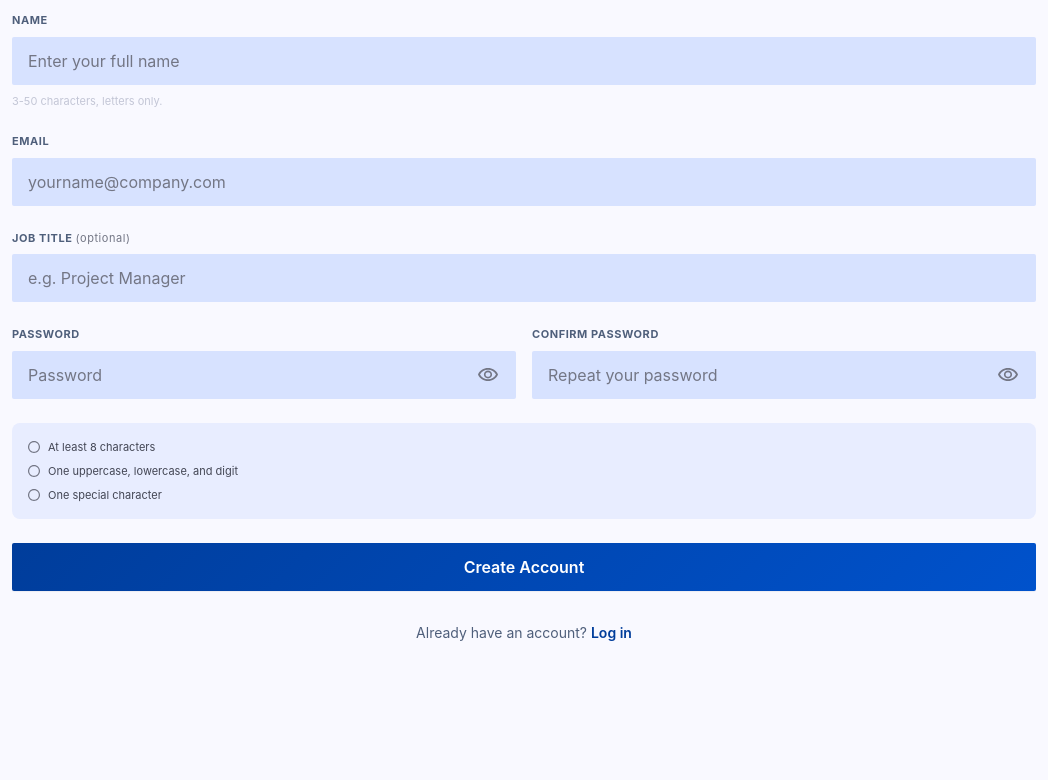
Scenario: SignUpForm › renders validation error and rejects before fetch for invalid name
Note: Too short (2 characters)
Type "Al" into the field labelled "Name" at (524, 60), box [12,36,1036,84]
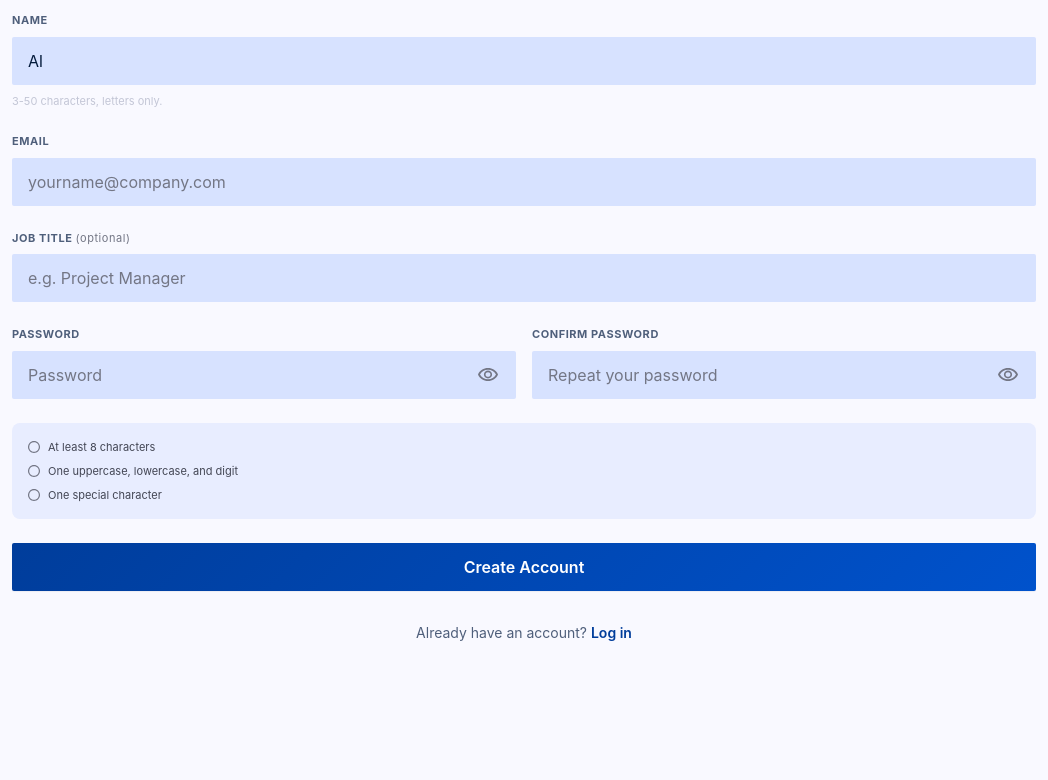
Click the button "Create Account" at (524, 567), box [12,543,1036,591]
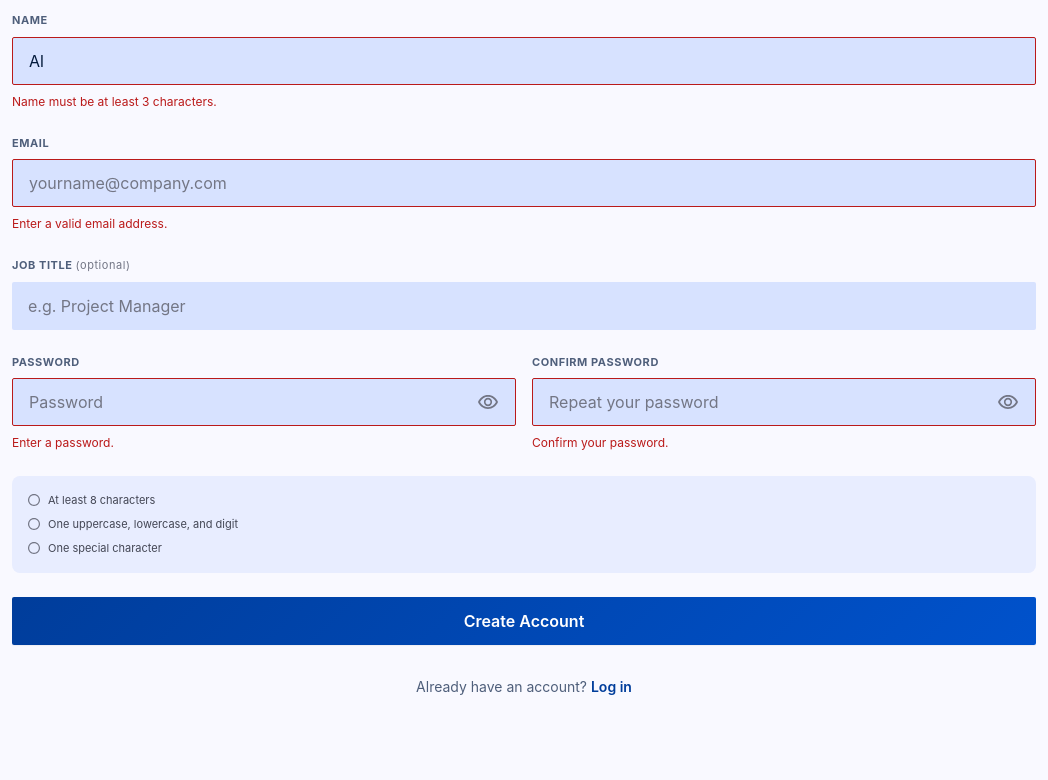
Expected: the text "Name must be at least 3 characters." is shown, [12,94,217,108]
Note: Invalid characters (digits)
Replace the text in the field labelled "Name" with "User 123" at (524, 60), box [12,36,1036,84]
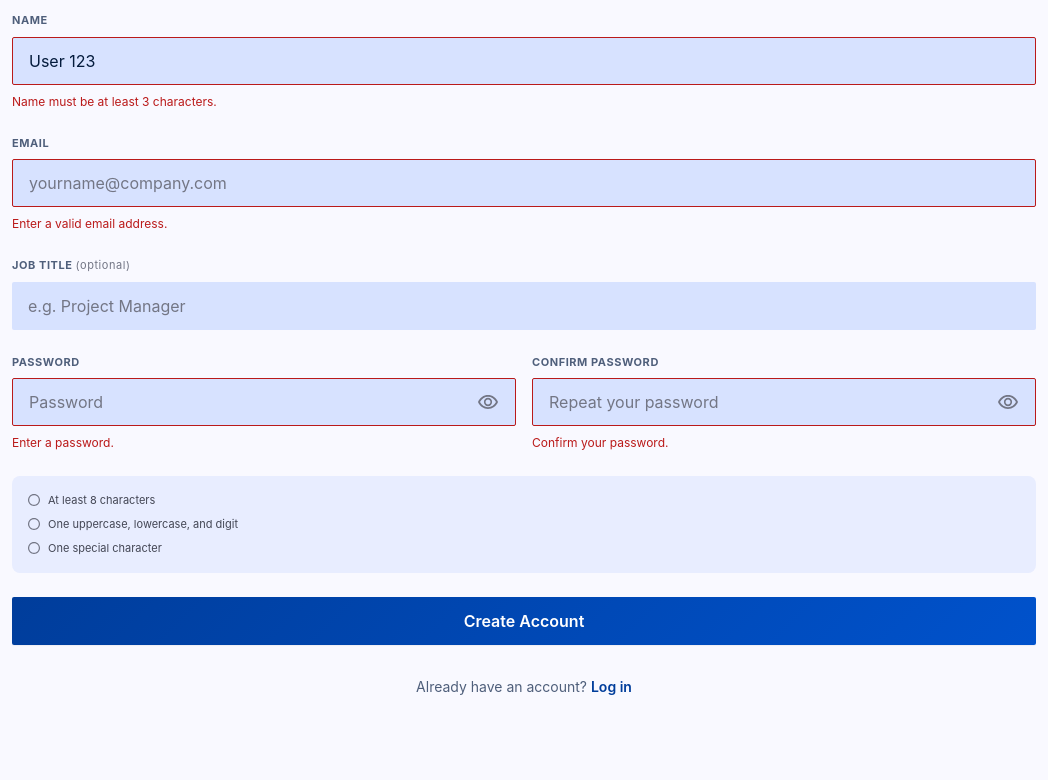
Click the button "Create Account" at (524, 620), box [12,596,1036,644]
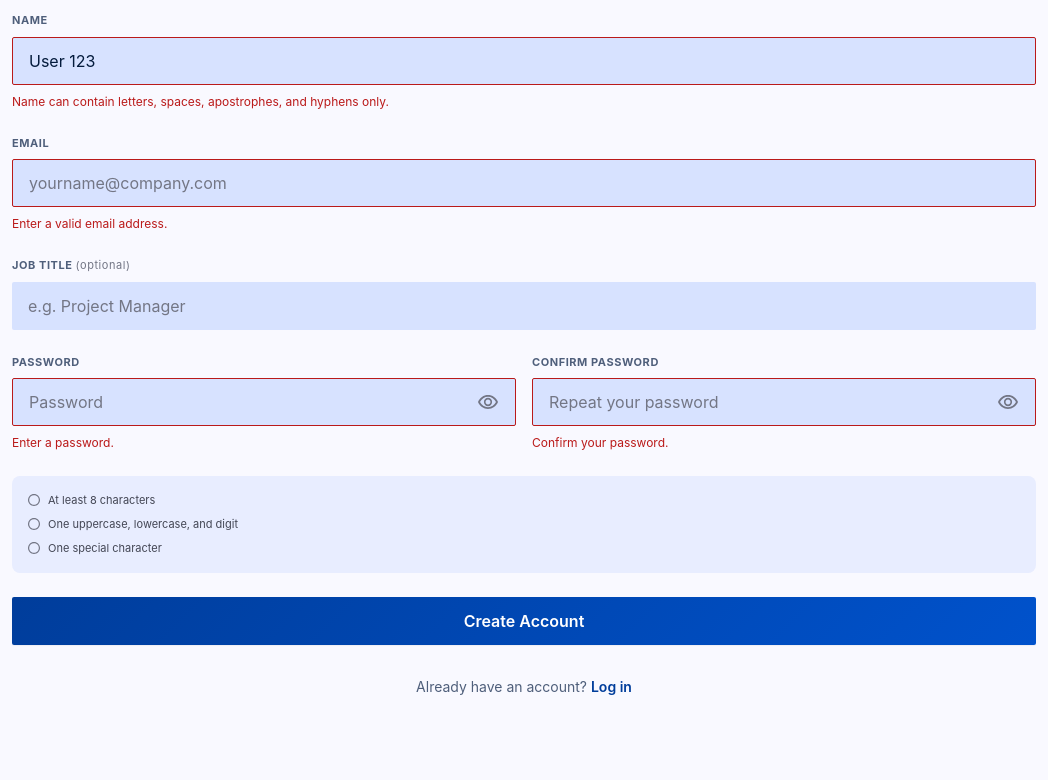
Expected: the text "Name can contain letters, spaces, apostrophes, and hyphens only." is shown, [12,94,389,108]
